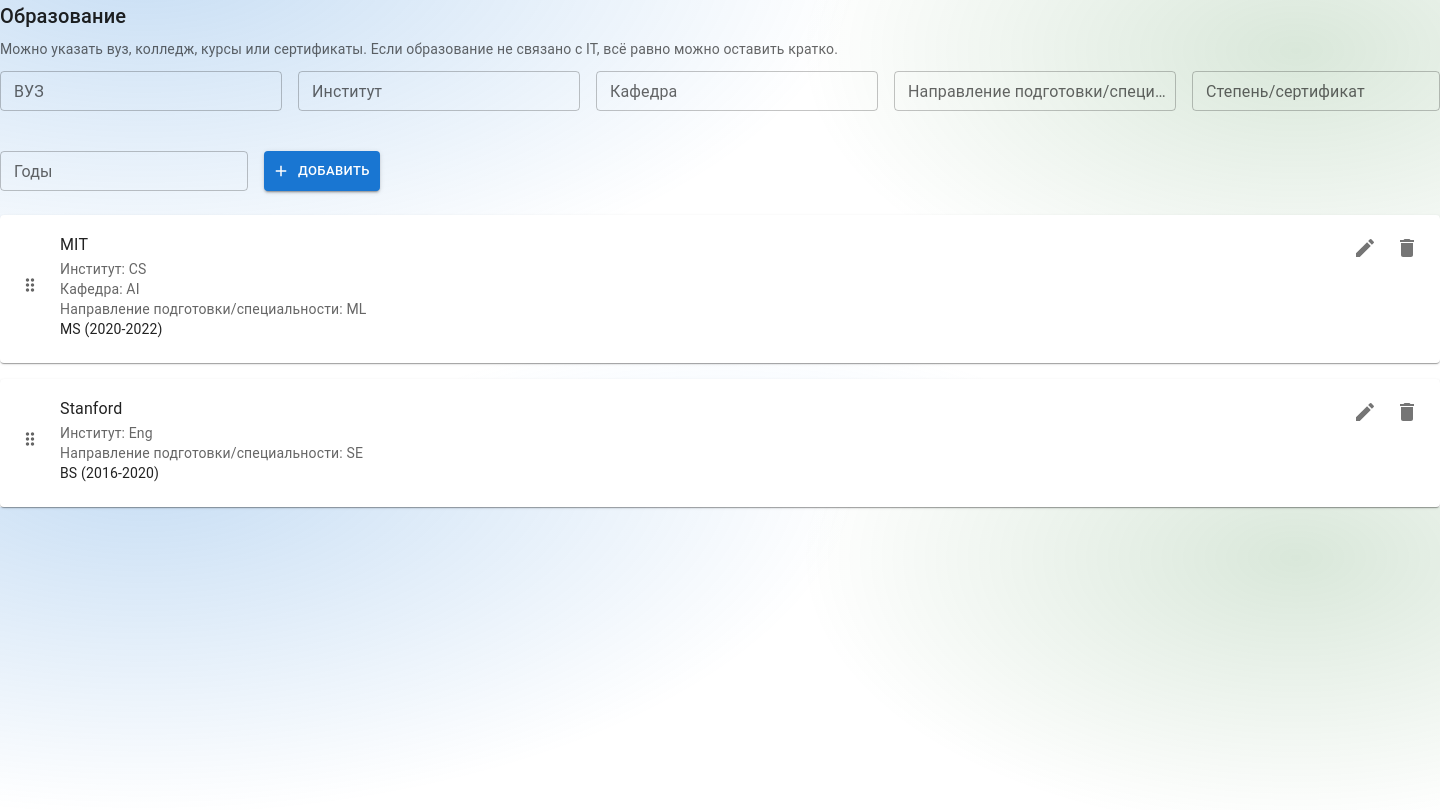
EducationBlock delete confirmation › clicking delete opens confirmation dialog
Click the button named "Удалить образование" in the row of "CS": (1407, 248) [1390, 231, 1424, 265]
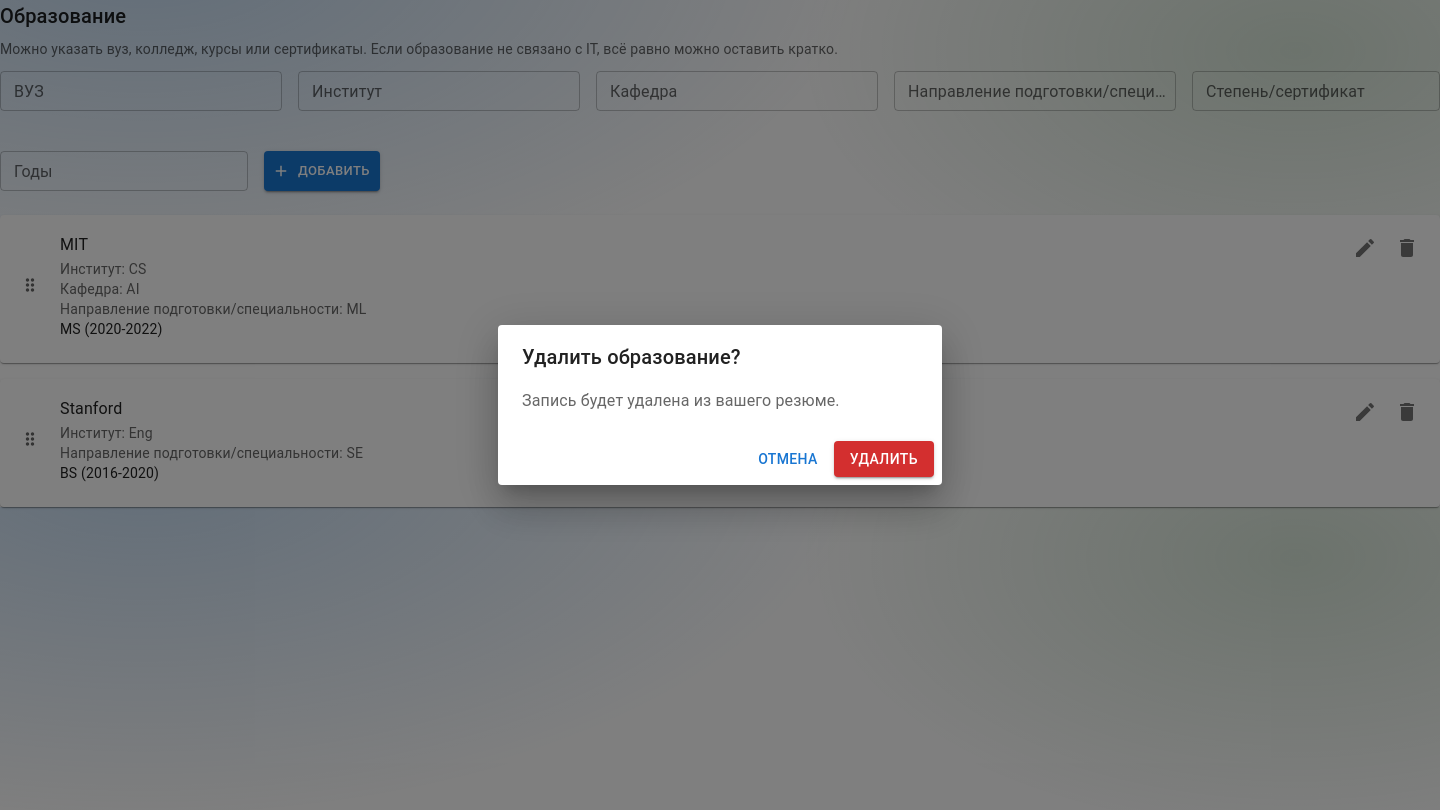
Expected: the dialog is shown, [498, 325, 942, 485]
Expected: the heading "Удалить образование?" is shown, [522, 345, 741, 369]
